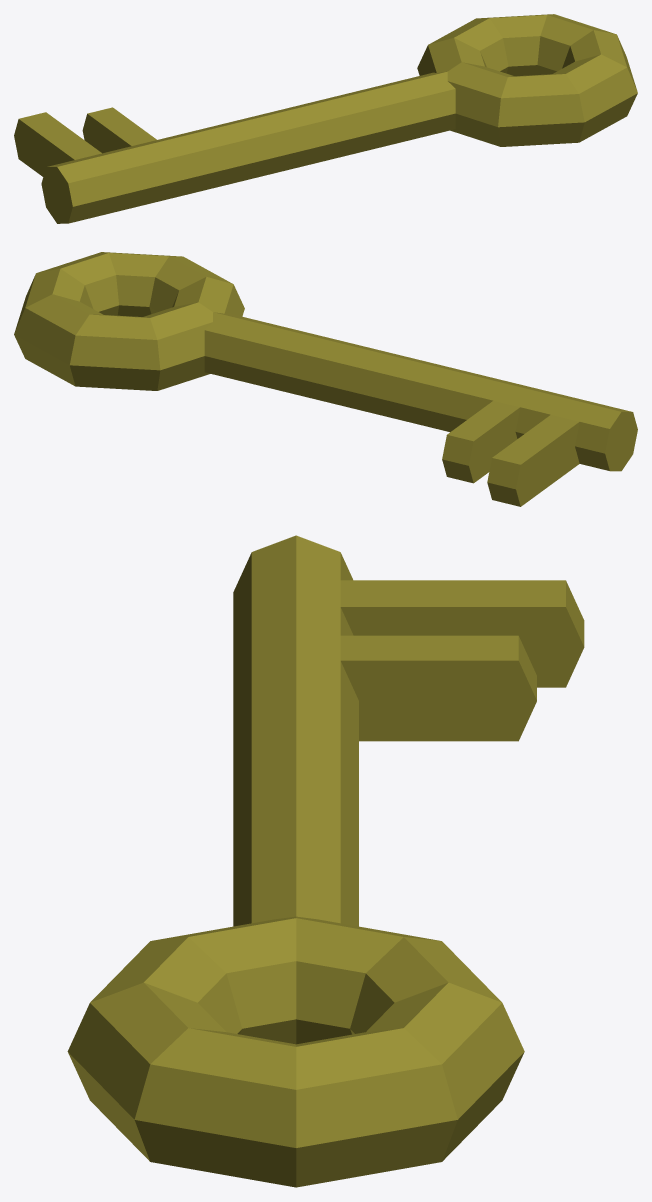
Rendered from Key.fbx.
The picture shows the model from 3 angles, top to bottom: view 1: azimuth 30°, elevation 25°; view 2: azimuth 150°, elevation 25°; view 3: azimuth 270°, elevation 25°; orthographic projection. The views are drawn at different scales.
Visible parts, largest first — view 1: pCylinder2; view 2: pCylinder2; view 3: pCylinder2.
Boxes of the visible parts, left/top/right/bottom form: pCylinder2: left=14, top=14, right=637, bottom=223; pCylinder2: left=14, top=252, right=637, bottom=506; pCylinder2: left=67, top=535, right=584, bottom=1187.
Size of the model in its own units: 22.96 by 2.66 by 9.02.
